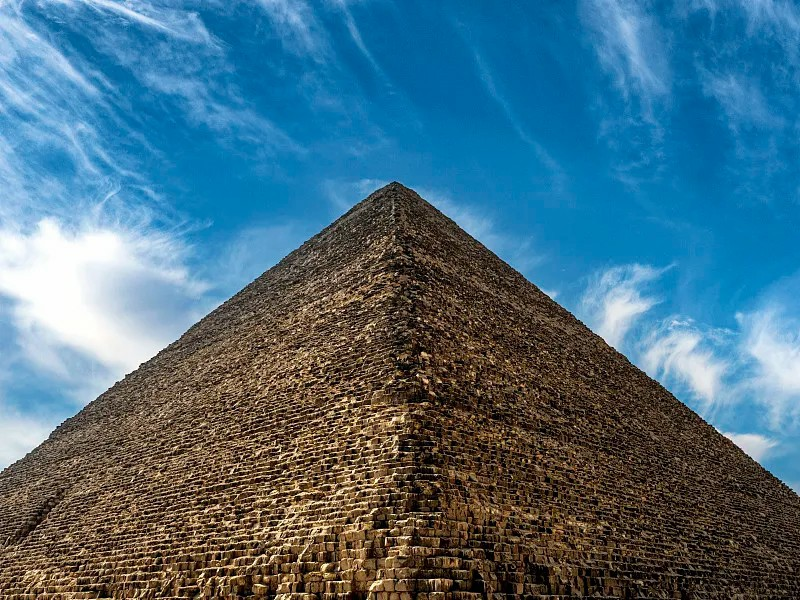Pyramid: (2, 181, 800, 600)
